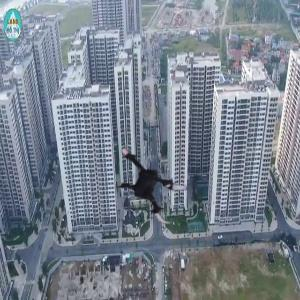drone: (109, 137, 202, 230)
